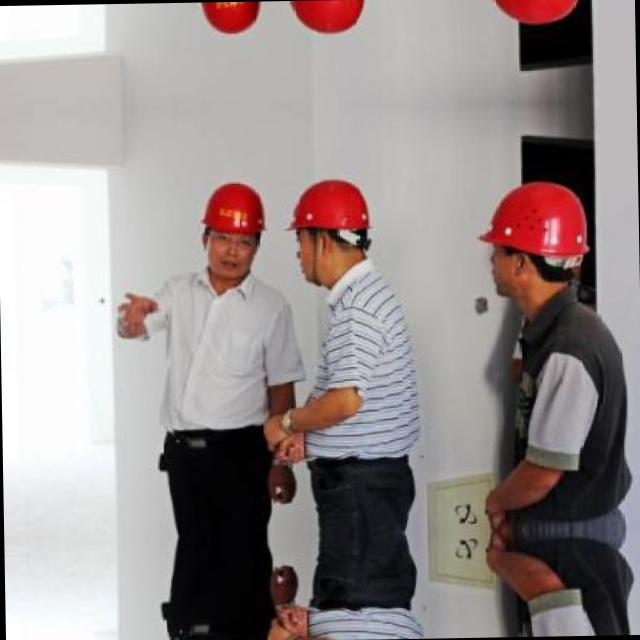helmet: (474, 176, 590, 309), (287, 176, 372, 285), (196, 176, 266, 282), (470, 0, 587, 29), (283, 0, 368, 37), (192, 1, 264, 39)
